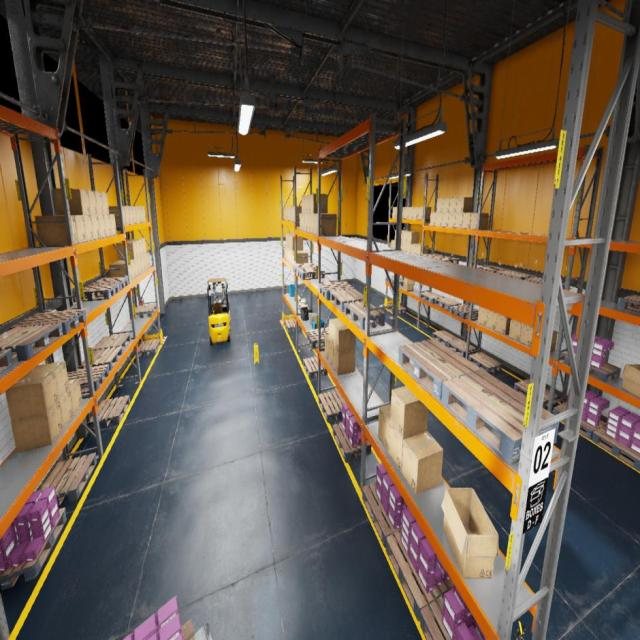box: (441, 488, 498, 578), (11, 401, 63, 452), (402, 431, 443, 495), (6, 371, 58, 421), (390, 386, 428, 439), (389, 423, 426, 472), (25, 361, 70, 400), (34, 216, 78, 246), (53, 189, 91, 215), (54, 215, 86, 243), (333, 322, 355, 352), (622, 363, 640, 398), (378, 404, 391, 452), (334, 347, 356, 375), (59, 389, 74, 428), (68, 378, 82, 416), (109, 262, 132, 281), (318, 213, 337, 236), (116, 242, 138, 260), (115, 260, 136, 278), (120, 241, 141, 258), (329, 319, 342, 346), (108, 206, 126, 225), (470, 212, 489, 230), (311, 194, 328, 213), (520, 324, 534, 347), (496, 315, 512, 335), (314, 213, 329, 234), (508, 319, 522, 341), (126, 240, 144, 256), (128, 238, 146, 254), (83, 215, 93, 240), (456, 198, 473, 212), (91, 215, 100, 240), (88, 190, 97, 214), (95, 190, 104, 214), (486, 311, 496, 330), (478, 307, 488, 326), (98, 215, 106, 238), (104, 214, 112, 237), (291, 236, 303, 251), (101, 192, 109, 214), (295, 251, 308, 264), (407, 231, 420, 244), (550, 331, 558, 352), (417, 207, 431, 219), (110, 213, 117, 236), (462, 212, 471, 229), (402, 231, 414, 243), (293, 251, 304, 264), (404, 278, 414, 291), (294, 206, 302, 222), (324, 334, 329, 359), (416, 245, 428, 255), (455, 213, 463, 228), (436, 198, 444, 213), (441, 213, 449, 228), (290, 235, 298, 249), (287, 234, 295, 248), (449, 198, 457, 212), (128, 206, 134, 224), (132, 206, 138, 224), (329, 340, 333, 367), (448, 213, 455, 228), (443, 198, 450, 213), (286, 234, 294, 247), (395, 230, 405, 240), (401, 231, 410, 242), (125, 206, 130, 224), (412, 244, 422, 253), (134, 259, 139, 276), (436, 213, 442, 227), (430, 212, 436, 226), (138, 256, 142, 274), (141, 254, 145, 272), (408, 207, 414, 219), (404, 207, 410, 219), (136, 206, 140, 223), (522, 323, 533, 329), (139, 206, 143, 222), (142, 206, 146, 222), (144, 254, 148, 270), (146, 252, 150, 267), (413, 207, 418, 219), (307, 195, 310, 214), (304, 195, 307, 214), (304, 214, 307, 231), (406, 244, 412, 252), (497, 314, 508, 318), (299, 298, 306, 304), (402, 242, 407, 250), (392, 208, 396, 218), (311, 214, 313, 233), (308, 214, 310, 232), (300, 212, 302, 230), (488, 310, 497, 314), (302, 196, 304, 213), (302, 214, 304, 231), (292, 206, 294, 222), (298, 303, 304, 308), (295, 296, 300, 302), (288, 248, 290, 263), (290, 207, 292, 221), (287, 207, 289, 221), (285, 207, 287, 220), (290, 251, 292, 264), (391, 240, 394, 248), (402, 207, 404, 219), (400, 242, 402, 250), (394, 241, 396, 249), (289, 207, 290, 221), (284, 207, 285, 220), (288, 248, 289, 261), (286, 247, 287, 260), (285, 246, 286, 259), (396, 208, 397, 218)
forklift: (207, 278, 230, 345)
pallets: (441, 370, 560, 464), (386, 530, 454, 621), (0, 508, 67, 590), (398, 338, 481, 400), (38, 453, 96, 505), (362, 482, 401, 548), (0, 323, 63, 361), (591, 424, 640, 471), (10, 309, 87, 337), (552, 401, 606, 440), (420, 588, 453, 639), (333, 422, 371, 462), (87, 395, 130, 430), (564, 356, 621, 382), (66, 364, 110, 394), (514, 378, 558, 408), (344, 300, 385, 330), (78, 346, 124, 370), (319, 389, 346, 423), (73, 283, 119, 302), (330, 289, 364, 312), (469, 352, 503, 373), (92, 333, 131, 351), (319, 282, 354, 300), (303, 356, 327, 379), (90, 277, 129, 291), (525, 276, 564, 290), (447, 339, 476, 357), (306, 326, 329, 348), (449, 305, 479, 319), (432, 330, 458, 346), (138, 339, 161, 357), (496, 270, 536, 280), (618, 296, 640, 314), (0, 348, 14, 374), (434, 297, 461, 310), (298, 267, 324, 280), (134, 304, 157, 318), (420, 291, 444, 304), (292, 263, 316, 274), (182, 620, 195, 639), (284, 320, 302, 332), (476, 266, 511, 272), (388, 305, 407, 315), (432, 256, 459, 263), (389, 278, 404, 286), (421, 254, 445, 257)
